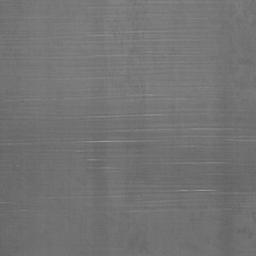Waist folding: (56, 92, 256, 144), (124, 188, 256, 214), (89, 29, 198, 59), (89, 2, 234, 8), (0, 138, 46, 147), (172, 160, 227, 166), (0, 98, 55, 103), (238, 233, 256, 240), (88, 165, 111, 170), (0, 45, 17, 49)
